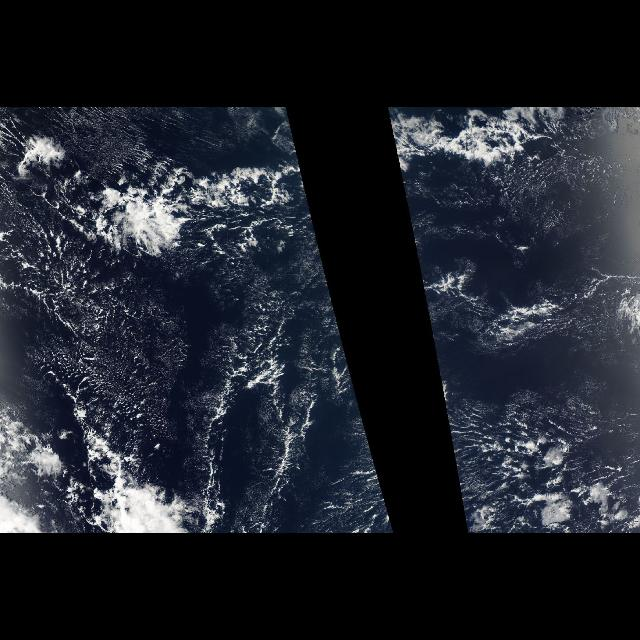Fish: (0, 108, 320, 252), (388, 108, 586, 252), (0, 385, 192, 533)
Flower: (486, 416, 640, 534)
Gravel: (5, 230, 186, 438)
Sugar: (110, 251, 342, 435), (420, 154, 640, 260), (96, 108, 288, 174), (538, 323, 636, 433)
